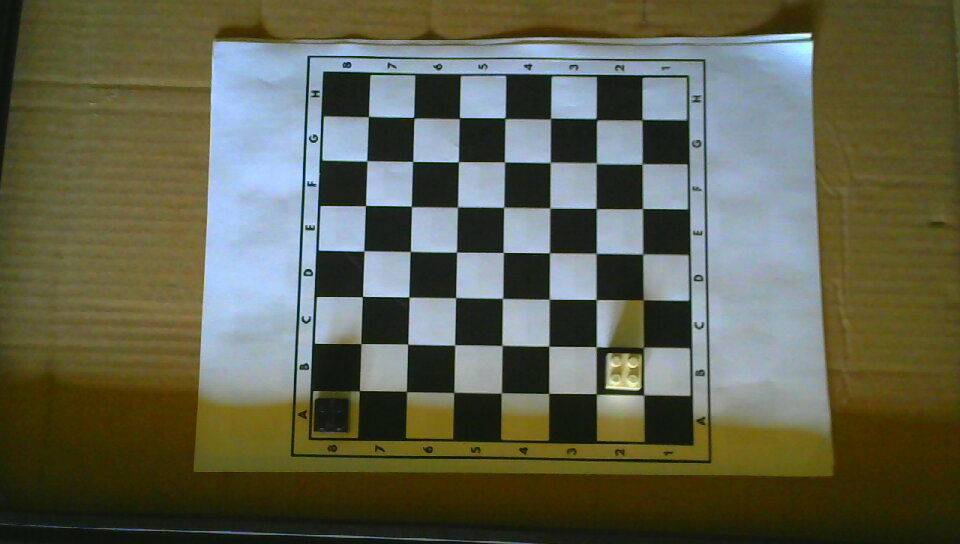bp: (313, 396, 349, 434)
wp: (604, 351, 642, 392)
